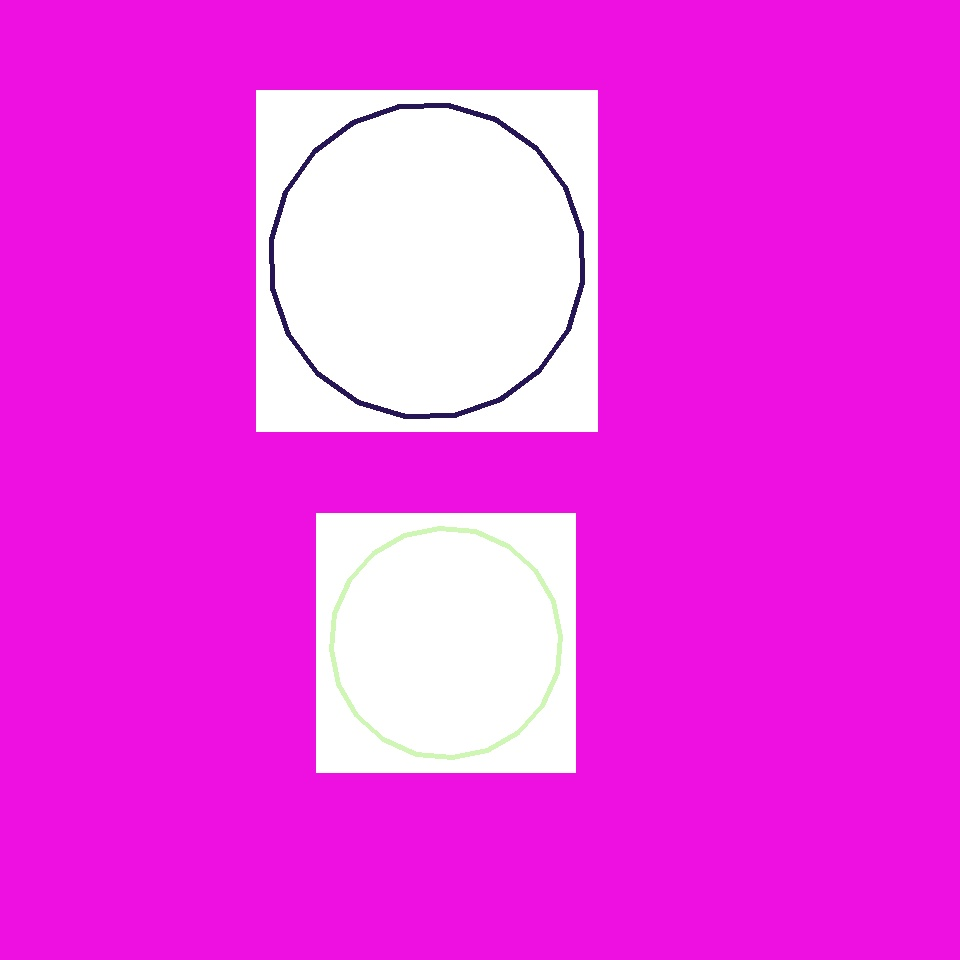circle: (394, 88, 624, 352), (287, 177, 545, 404), (845, 260, 933, 362)
triangle: (271, 105, 582, 416), (332, 528, 560, 758)
